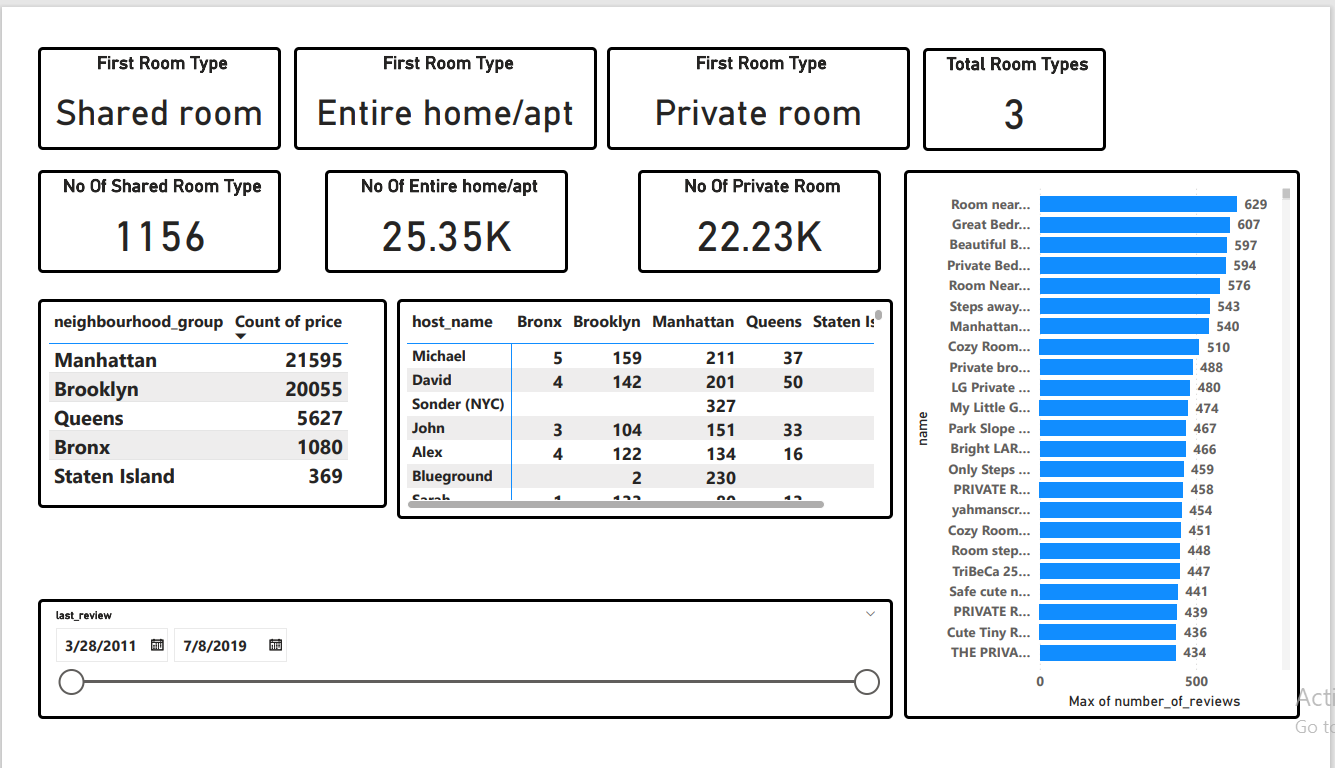

The page's visual inventory and layout, read from the dashboard file:
{"tool":"powerbi","page":{"name":"Analysis","canvas":[1280,720],"ordinal":1},"visuals":[{"type":"card","title":"First Room Type","fields":{"Values":["Min(AB_NYC_2019.room_type)"]},"box":[11.6,15.9,243.5,102.9],"z":0},{"type":"card","title":"First Room Type","fields":{"Values":["Min(AB_NYC_2019.room_type)"]},"box":[268.1,15.9,302.9,102.9],"z":1},{"type":"card","title":"First Room Type","fields":{"Values":["Min(AB_NYC_2019.room_type)"]},"box":[581.2,15.9,302.9,102.9],"z":2},{"type":"card","title":"Total Room Types","fields":{"Values":["Count(AB_NYC_2019.room_type)"]},"box":[897.1,17.4,182.6,102.9],"z":3},{"type":"card","title":"No Of Shared Room Type","fields":{"Values":["CountNonNull(AB_NYC_2019.room_type)"]},"box":[11.6,139.1,243.5,102.9],"z":4},{"type":"card","title":"No Of Entire home/apt","fields":{"Values":["CountNonNull(AB_NYC_2019.room_type)"]},"box":[298.6,139.1,243.5,102.9],"z":5},{"type":"card","title":"No Of Private Room","fields":{"Values":["CountNonNull(AB_NYC_2019.room_type)"]},"box":[611.6,139.1,243.5,102.9],"z":6},{"type":"slicer","fields":{"Values":["AB_NYC_2019.last_review"]},"box":[11.6,568.1,855.1,120.3],"z":7},{"type":"tableEx","fields":{"Values":["AB_NYC_2019.neighbourhood_group","CountNonNull(AB_NYC_2019.price)"]},"box":[11.6,268.1,349.3,208.7],"z":8},{"type":"pivotTable","fields":{"Rows":["AB_NYC_2019.host_name"],"Columns":["AB_NYC_2019.neighbourhood_group"],"Values":["CountNonNull(AB_NYC_2019.calculated_host_listings_count)"]},"box":[371,268.1,495.7,220.3],"z":9},{"type":"barChart","fields":{"Category":["AB_NYC_2019.name"],"Y":["Max(AB_NYC_2019.number_of_reviews)"]},"box":[878.3,139.1,395.7,549.3],"z":10}]}

Visuals, with their boxes in screenshot pixels (x1, y1, x2, y2), scaled from the page's 1280x720 canvas onto the 1335x768 screenshot:
"First Room Type" card: {"left": 12, "top": 17, "right": 266, "bottom": 127}
"First Room Type" card: {"left": 280, "top": 17, "right": 596, "bottom": 127}
"First Room Type" card: {"left": 606, "top": 17, "right": 922, "bottom": 127}
"Total Room Types" card: {"left": 936, "top": 19, "right": 1126, "bottom": 128}
"No Of Shared Room Type" card: {"left": 12, "top": 148, "right": 266, "bottom": 258}
"No Of Entire home/apt" card: {"left": 311, "top": 148, "right": 565, "bottom": 258}
"No Of Private Room" card: {"left": 638, "top": 148, "right": 892, "bottom": 258}
slicer - AB_NYC_2019.last_review: {"left": 12, "top": 606, "right": 904, "bottom": 734}
tableEx - AB_NYC_2019.neighbourhood_group x CountNonNull(AB_NYC_2019.price): {"left": 12, "top": 286, "right": 376, "bottom": 509}
pivotTable - AB_NYC_2019.host_name x AB_NYC_2019.neighbourhood_group: {"left": 387, "top": 286, "right": 904, "bottom": 521}
barChart - AB_NYC_2019.name x Max(AB_NYC_2019.number_of_reviews): {"left": 916, "top": 148, "right": 1329, "bottom": 734}
